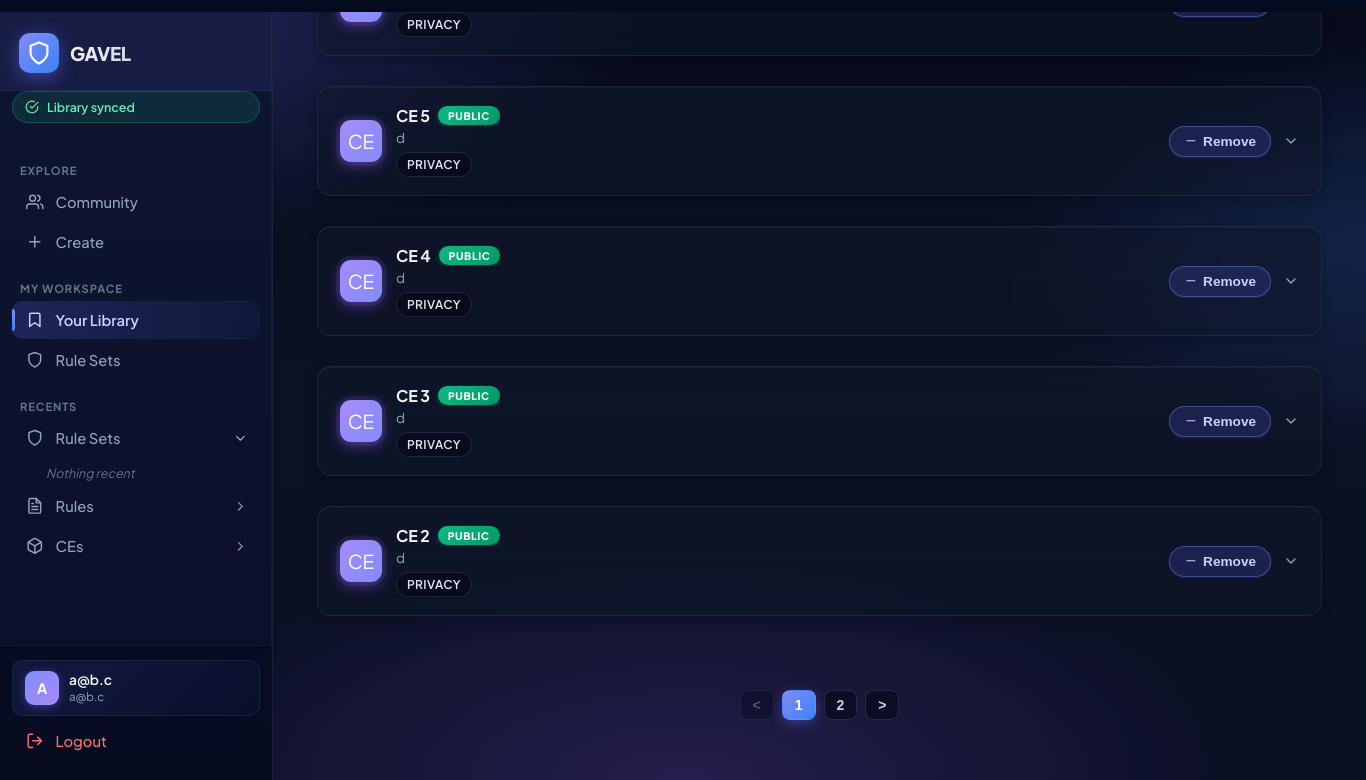
BookmarksCEs › paginates when there are more bookmarks than the page size
The width and height of the screenshot is (1366, 780).
(page scrolled)
Expected: the heading "CE 5 Public" is shown, [396,105,500,126]
Click the button "2" at (840, 705), box [824,690,857,720]
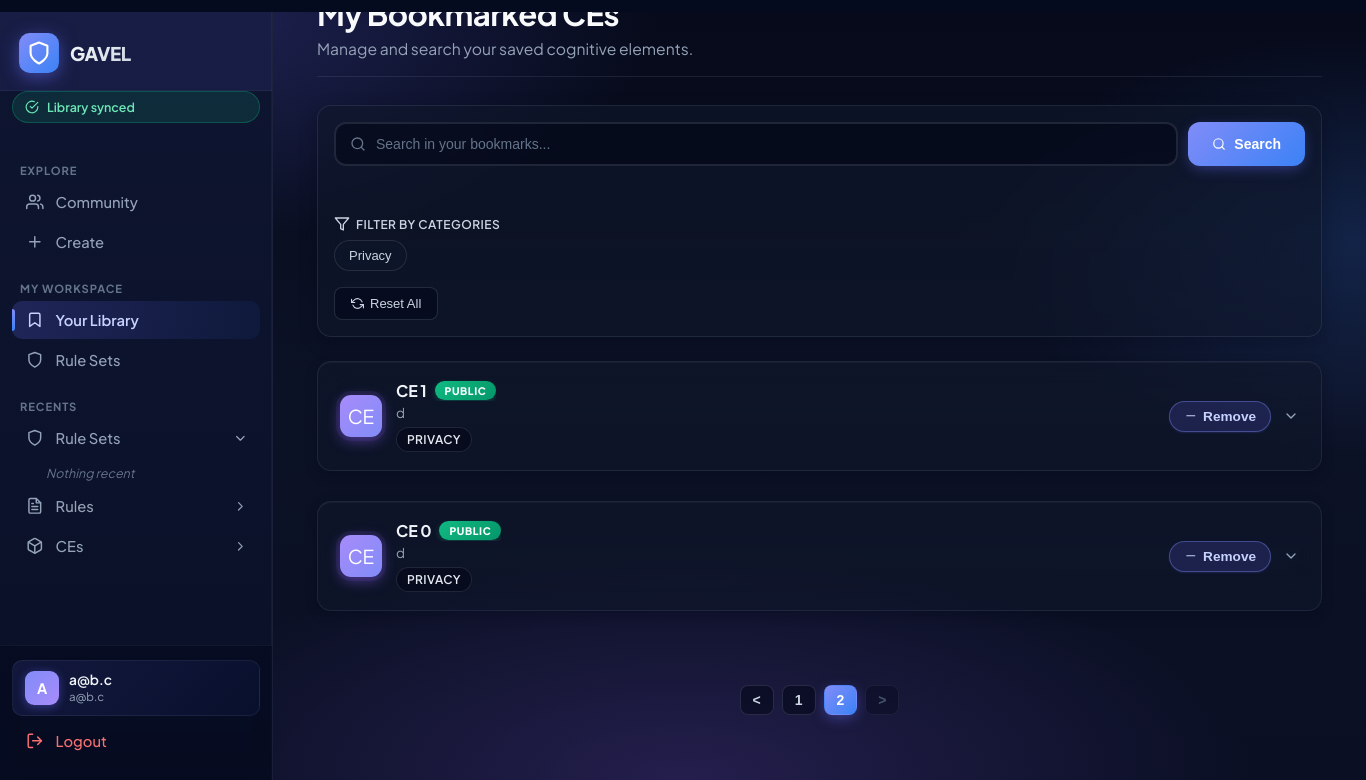
Expected: the number of elements with class "ce-card" is 2, [317,361,1322,471]; [317,501,1322,611]
